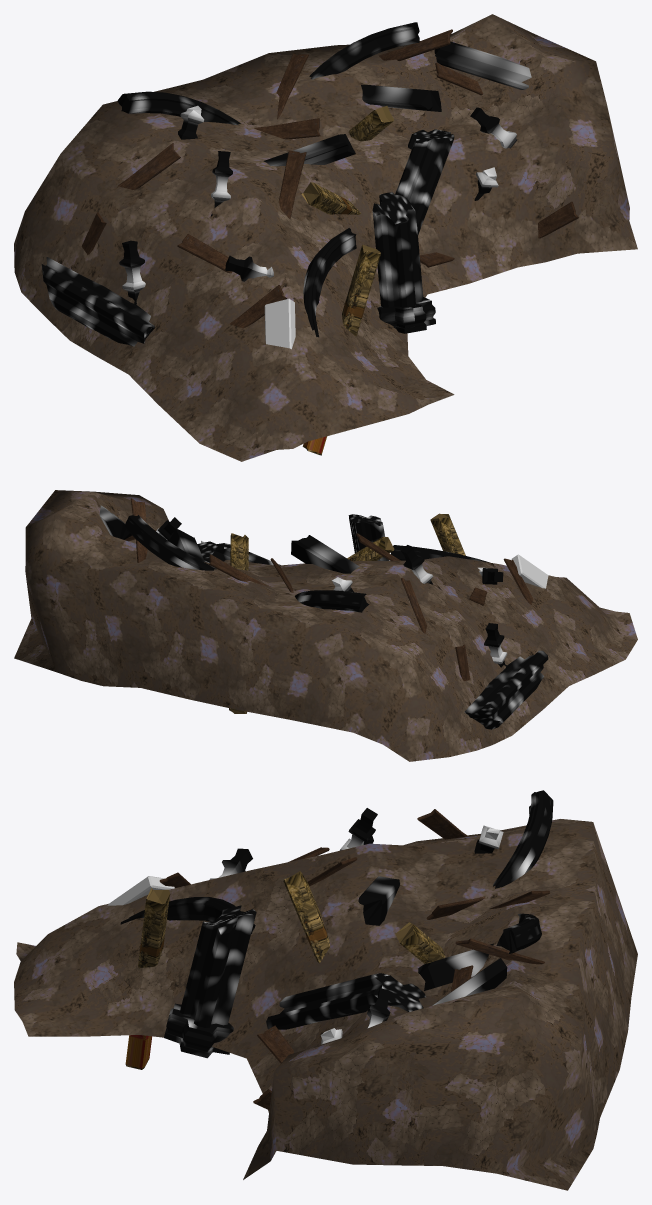
File: SpawnerRubbleA.fbx
3 views of the same model, one above another, from view 1: azimuth 30°, elevation 25°; view 2: azimuth 150°, elevation 25°; view 3: azimuth 270°, elevation 25° (orthographic). The views are drawn at different scales.
Visible parts, largest first — view 1: SpawnerRubbleA; view 2: SpawnerRubbleA; view 3: SpawnerRubbleA.
Boxes of the visible parts, box(x1,y1,x2,y2) form: SpawnerRubbleA: box(14, 14, 637, 461); SpawnerRubbleA: box(14, 490, 637, 761); SpawnerRubbleA: box(14, 790, 637, 1190).
Size of the model in its own units: 1156 by 521 by 1031.
